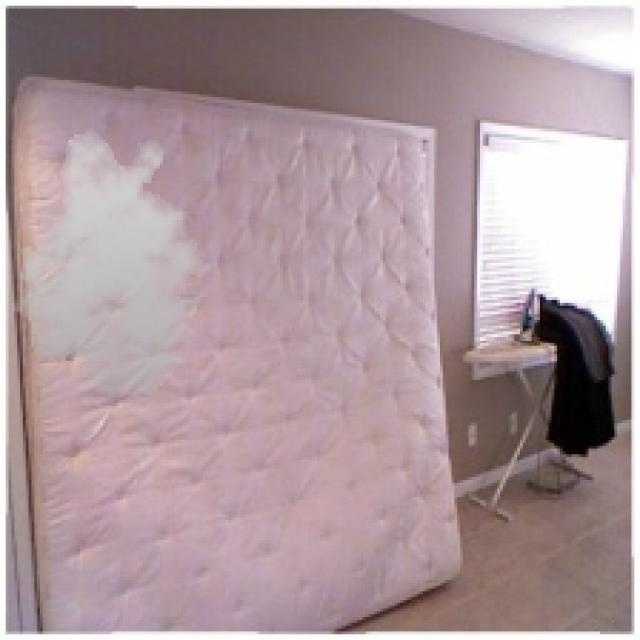smoke: (6, 129, 223, 400)
